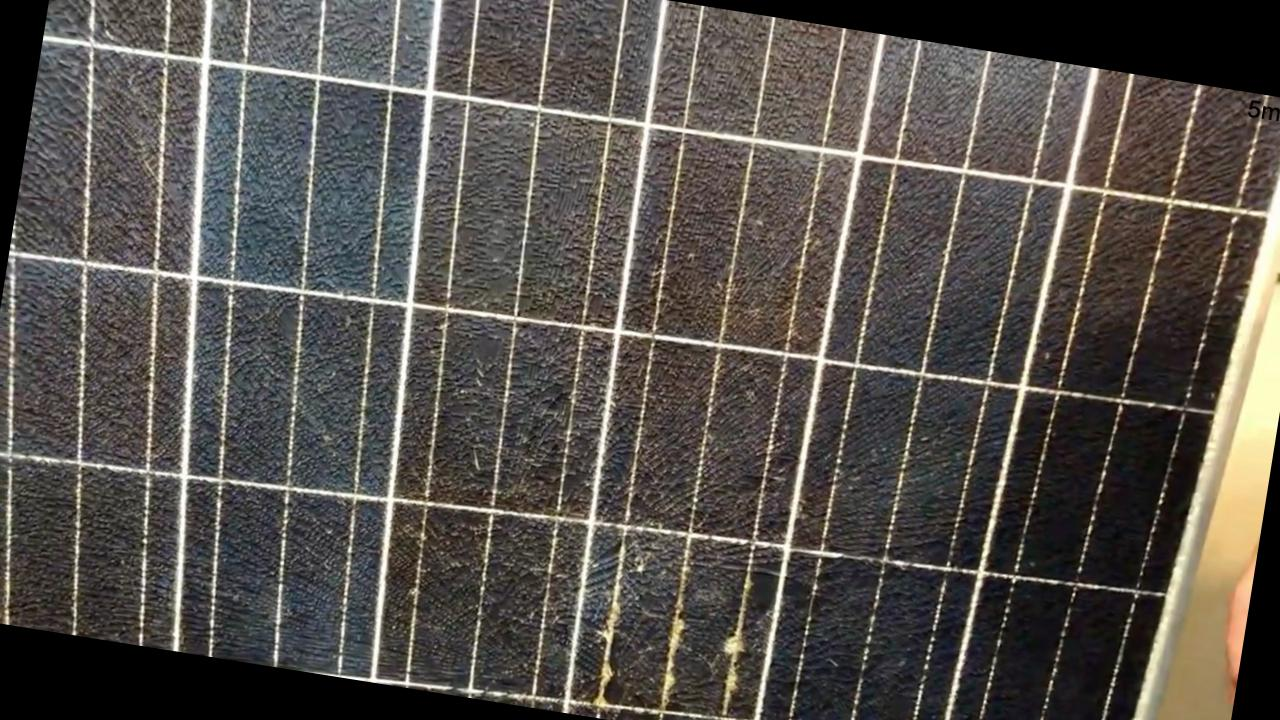Crack: (444, 473, 746, 718)
